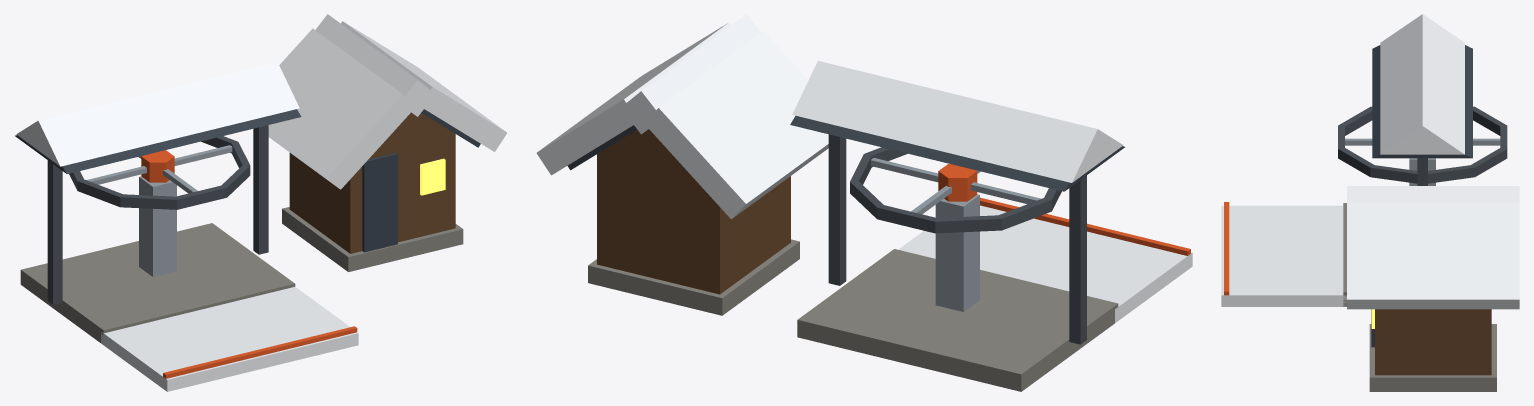
The model's file is surface-terminal-bottom.glb.
3 views of the same model, side by side, from view 1: azimuth 30°, elevation 25°; view 2: azimuth 150°, elevation 25°; view 3: azimuth 270°, elevation 25° (orthographic). The views are drawn at different scales.
Parts seen in each view (by area): view 1: surface-terminal-bottom; view 2: surface-terminal-bottom; view 3: surface-terminal-bottom.
Boxes of the visible parts, bbox=[...] form: surface-terminal-bottom: bbox=[15, 14, 506, 391]; surface-terminal-bottom: bbox=[536, 14, 1192, 391]; surface-terminal-bottom: bbox=[1221, 14, 1519, 391].
Bounding box in the file's own units: 8.97 × 4 × 5.63.
